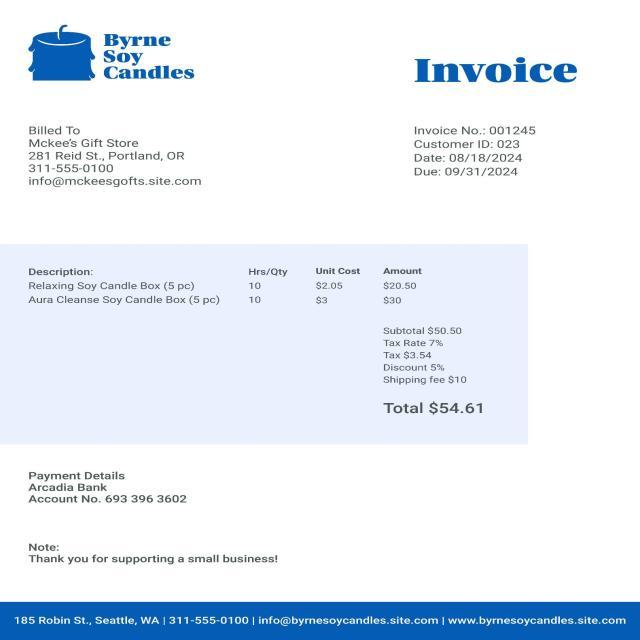ROI: (19, 262, 438, 314), (2, 606, 640, 636), (20, 114, 228, 198), (380, 322, 498, 416), (406, 116, 571, 183), (18, 532, 294, 572), (14, 464, 198, 513), (408, 50, 586, 90), (96, 28, 205, 90)
